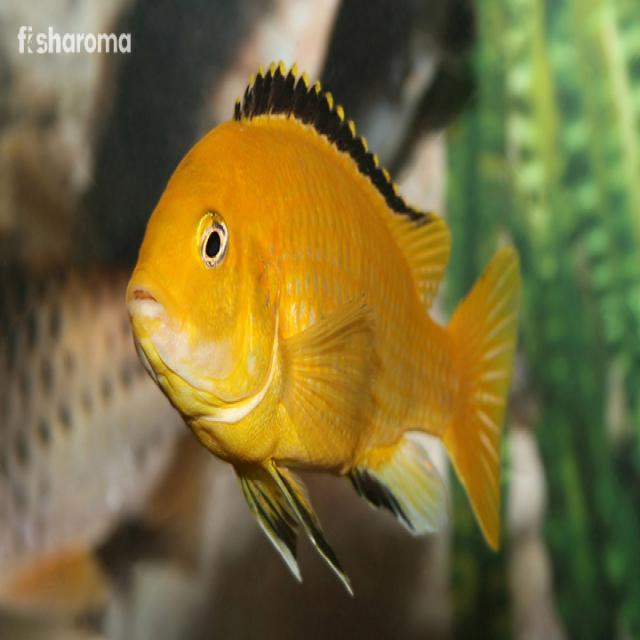YellowCichlid: (110, 59, 559, 597)
